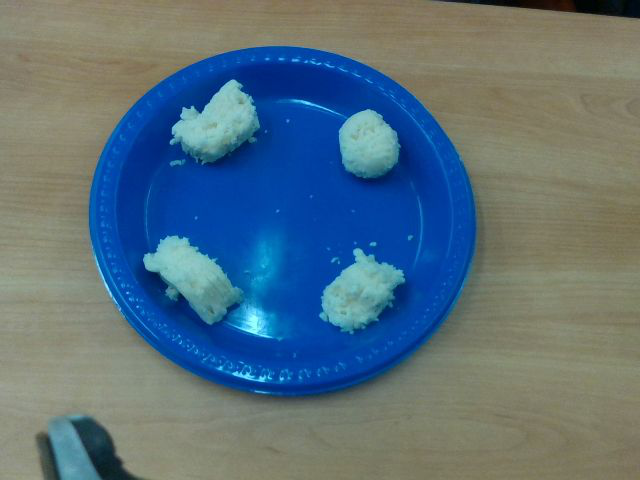mashed_potato: (143, 236, 242, 323), (172, 79, 260, 162), (321, 250, 404, 333), (338, 109, 400, 178)
